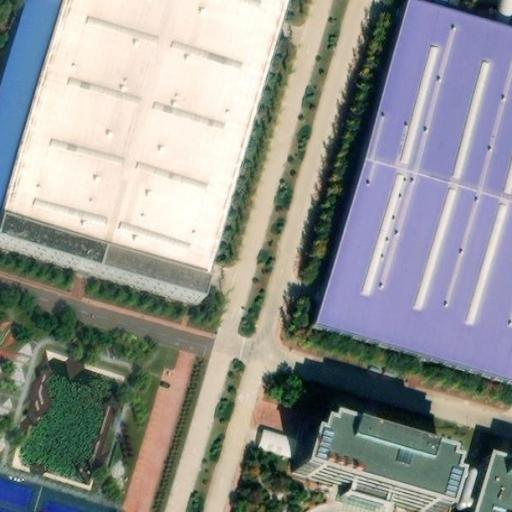building: (295, 424, 454, 512), (0, 474, 107, 511), (467, 449, 511, 511), (256, 428, 304, 464)
